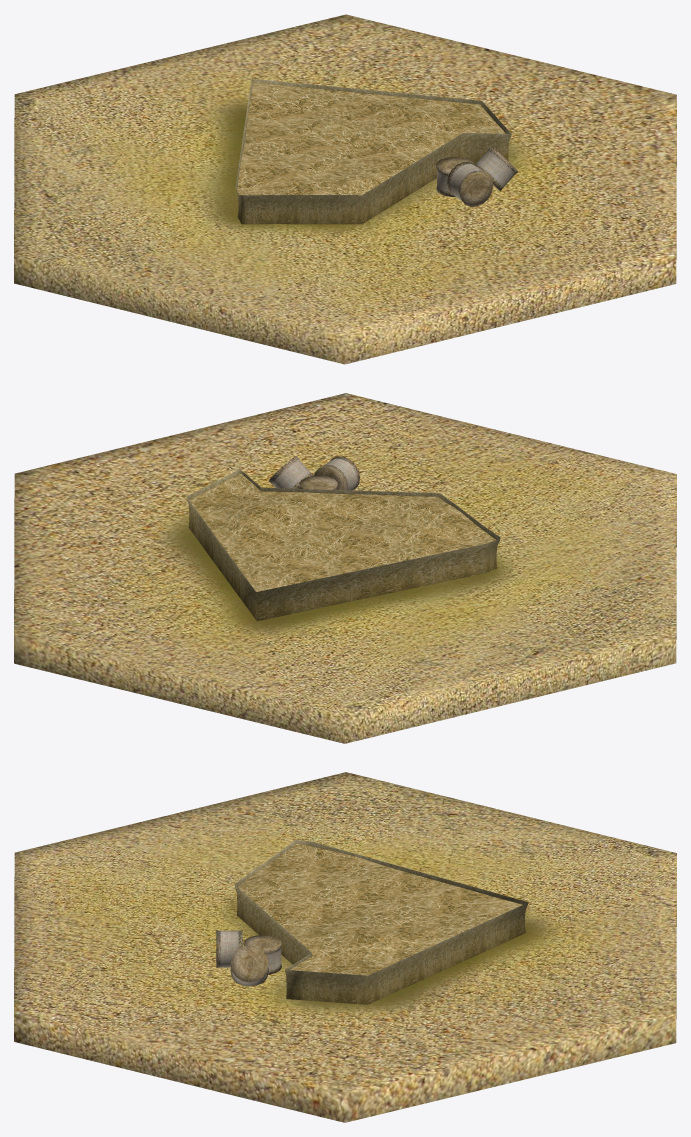
The model's file is yellowhex.fbx.
3 views of the same model, one above another, from view 1: azimuth 30°, elevation 25°; view 2: azimuth 150°, elevation 25°; view 3: azimuth 270°, elevation 25° (orthographic).
Visible parts, largest first — view 1: Hexa_pole, pole, balik, balik.002, balik.001; view 2: Hexa_pole, pole, balik, balik.002; view 3: Hexa_pole, pole, balik.002, balik, balik.001.
Boxes of the visible parts, x1=… form: Hexa_pole: x1=14, y1=14, x2=676, y2=364; pole: x1=235, y1=78, x2=511, y2=224; balik: x1=446, y1=161, x2=493, y2=206; balik.002: x1=475, y1=146, x2=518, y2=191; balik.001: x1=436, y1=157, x2=473, y2=196; Hexa_pole: x1=14, y1=393, x2=676, y2=743; pole: x1=186, y1=469, x2=500, y2=621; balik: x1=314, y1=456, x2=359, y2=490; balik.002: x1=268, y1=456, x2=314, y2=488; Hexa_pole: x1=14, y1=772, x2=676, y2=1122; pole: x1=234, y1=839, x2=528, y2=1004; balik.002: x1=230, y1=945, x2=268, y2=986; balik: x1=216, y1=930, x2=242, y2=968; balik.001: x1=243, y1=935, x2=281, y2=974.
Bounding box in the file's own units: 24.41 × 2.31 × 21.15.
Materials: 3 (3 with a texture image).
